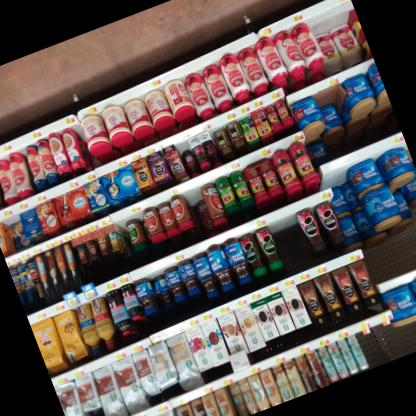empty_space: (266, 210, 311, 268), (358, 324, 389, 368), (378, 317, 405, 360)
